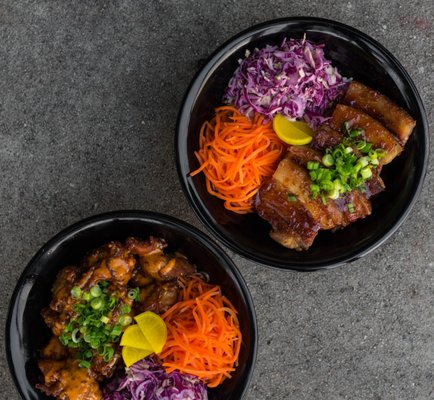sushi: (176, 18, 430, 274), (10, 210, 257, 396)
